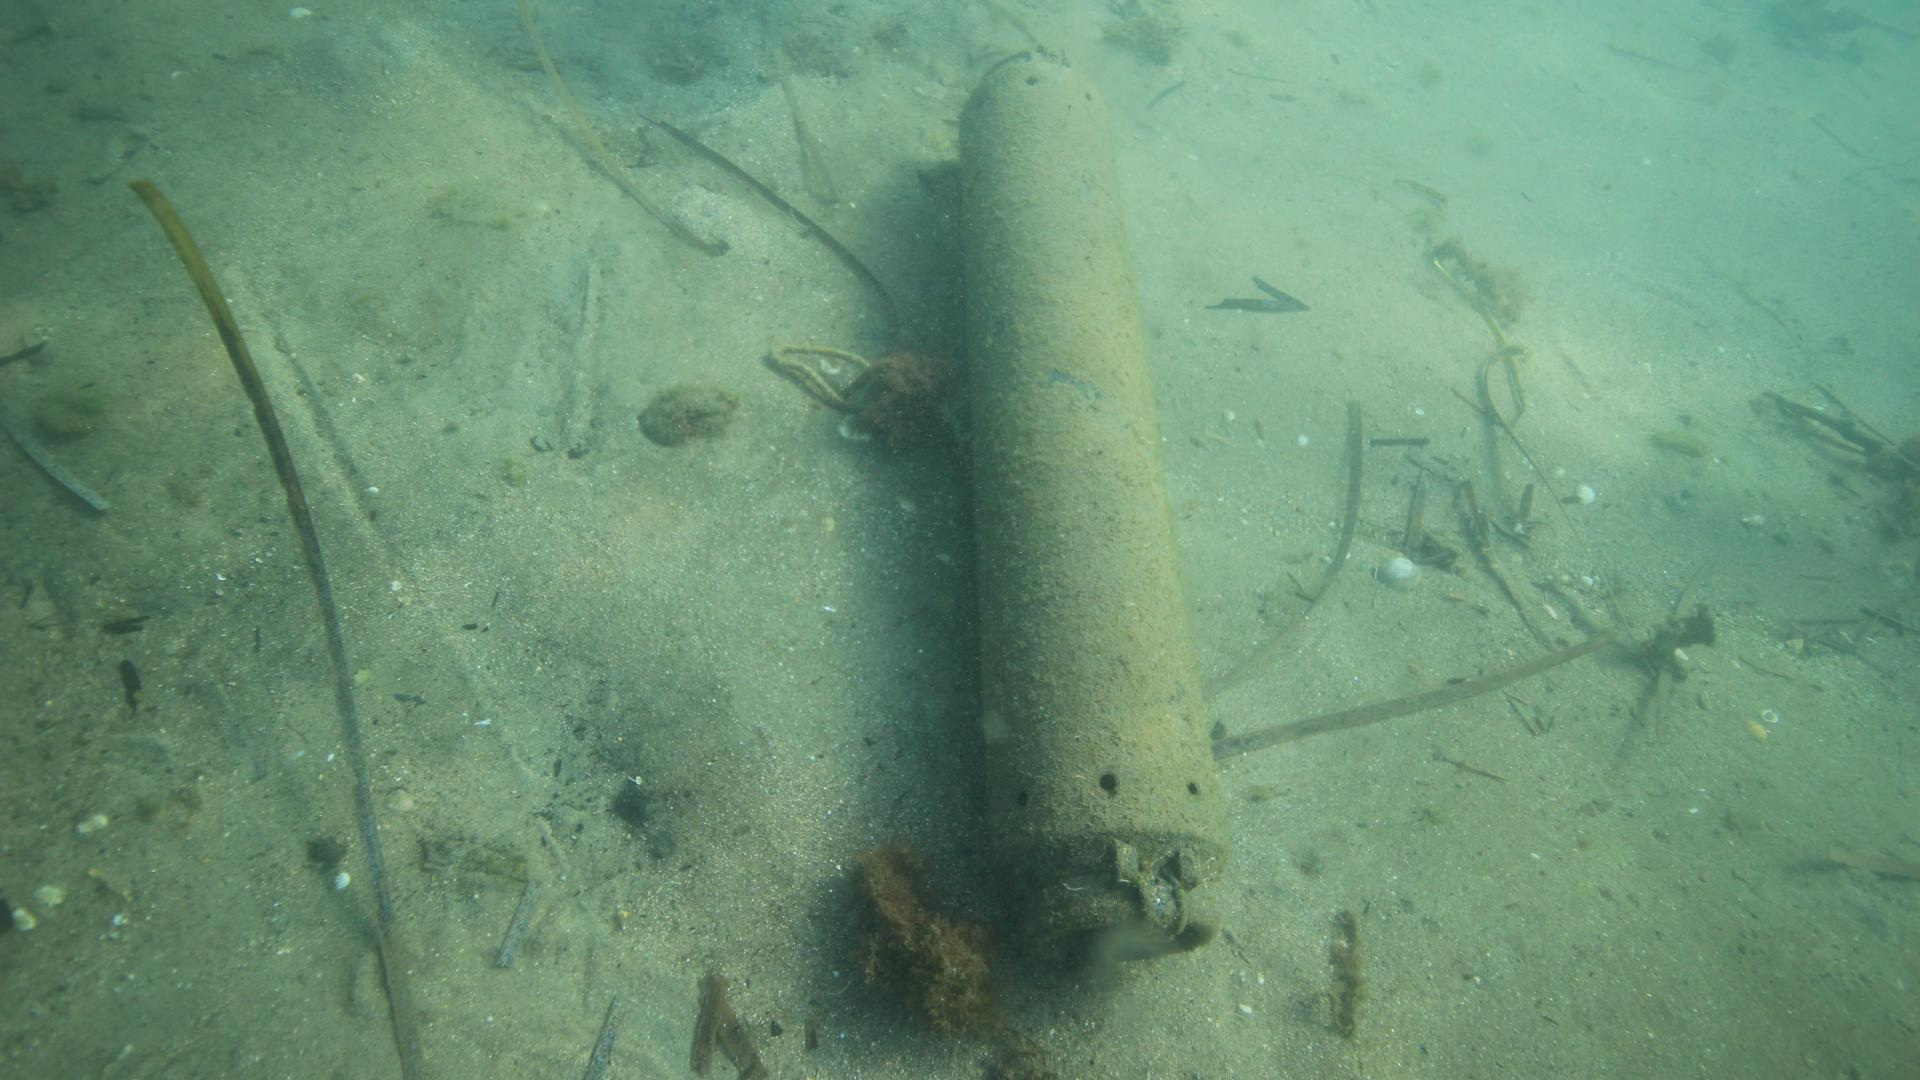eel fish trap: (953, 42, 1238, 971)
